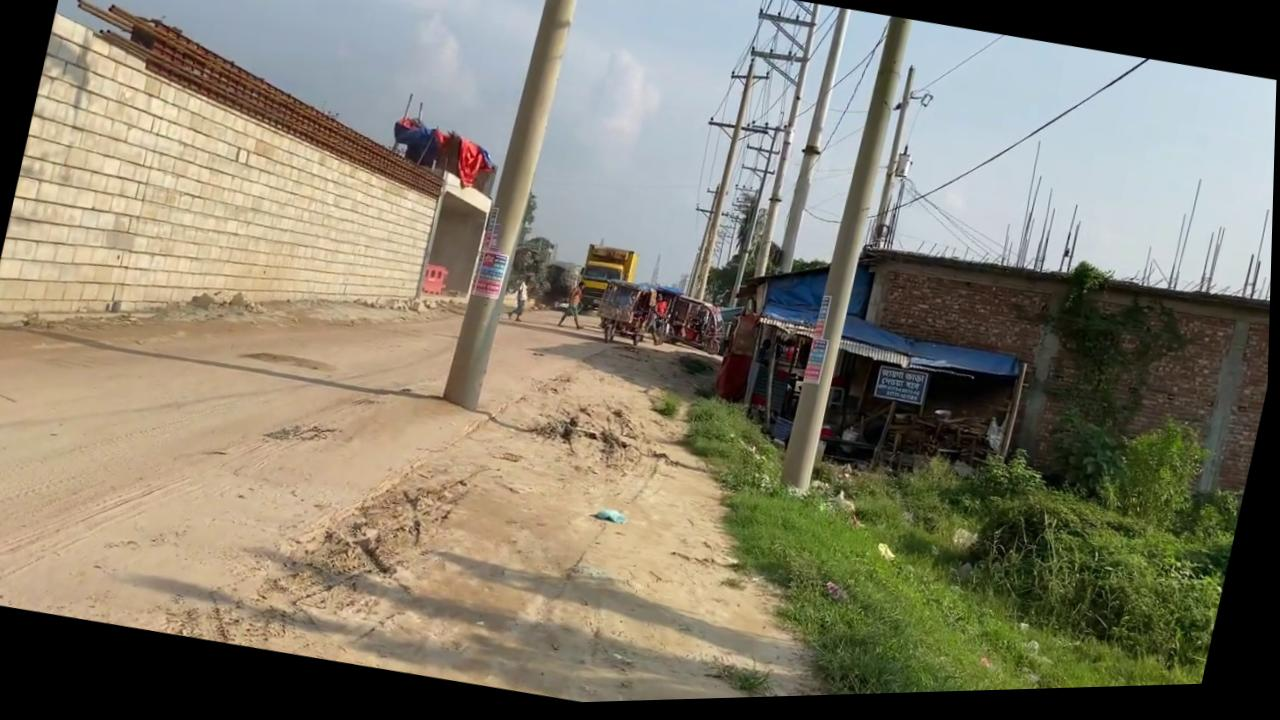Pole: (779, 19, 914, 499), (441, 0, 584, 417), (775, 12, 851, 280), (751, 8, 824, 284), (692, 61, 760, 306)
Rickshaw: (461, 316, 792, 709)
Tree: (573, 242, 642, 322)
Upstairs: (0, 0, 470, 406), (819, 231, 1274, 537)
